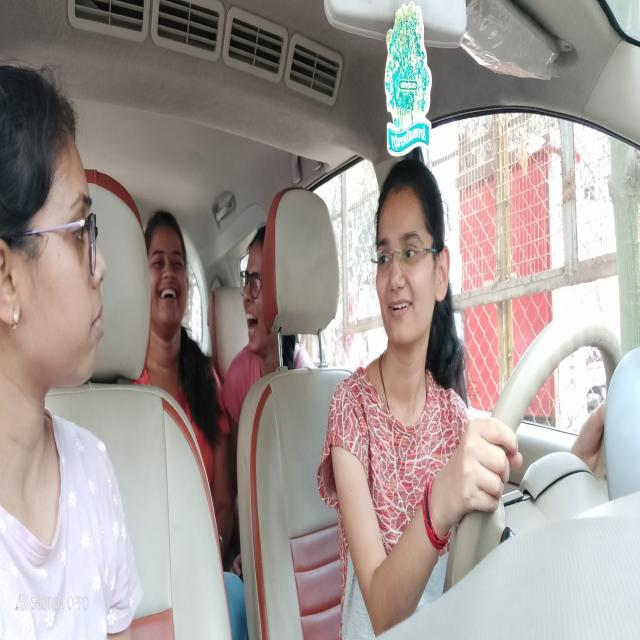LeftRight: (369, 158, 454, 352)
person: (1, 50, 110, 403), (144, 202, 190, 335), (242, 219, 270, 354)
talking: (386, 292, 414, 318)
